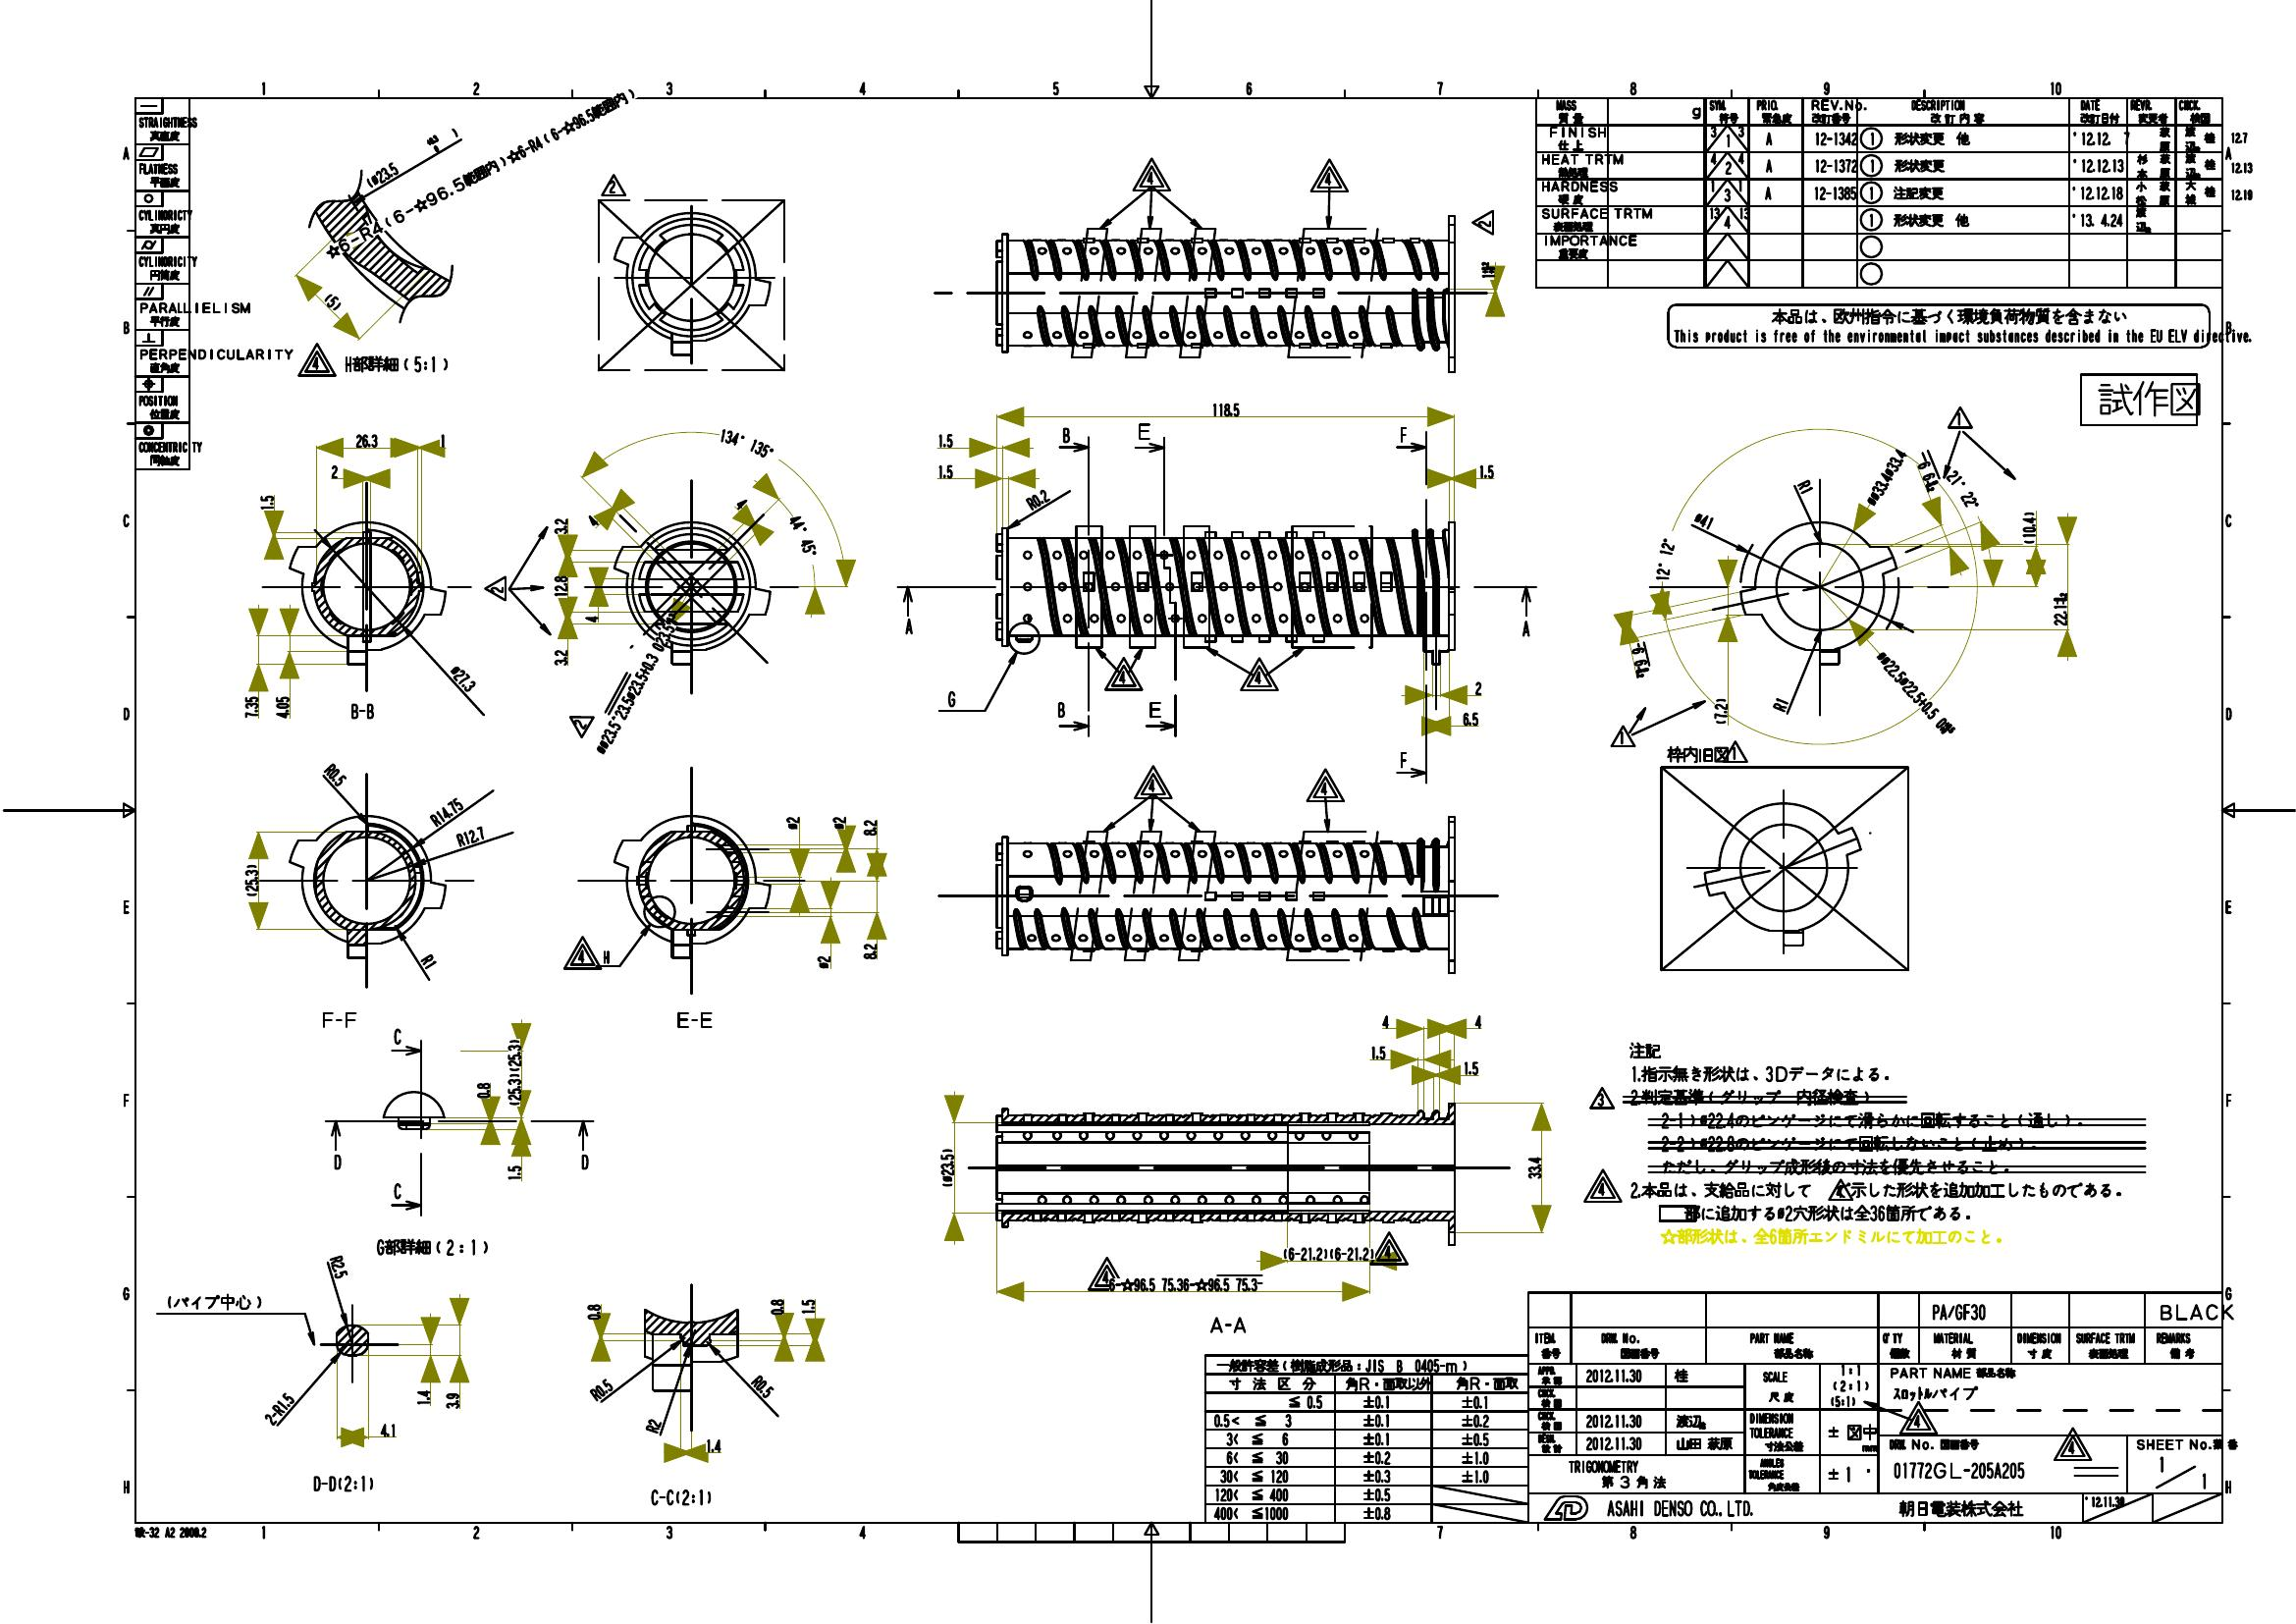anntotation_text: (1583, 1037, 2152, 1251), (1667, 304, 2210, 348), (2082, 374, 2199, 425), (372, 1234, 488, 1258), (339, 353, 450, 374), (1667, 740, 1750, 763), (557, 935, 603, 972), (311, 1471, 379, 1496), (1303, 766, 1346, 805), (1130, 156, 1173, 193), (1309, 156, 1349, 195), (1131, 763, 1172, 801), (1237, 656, 1279, 692), (163, 1294, 262, 1309), (297, 343, 336, 378), (1105, 657, 1142, 692), (646, 1487, 713, 1506), (1087, 1258, 1123, 1292), (1372, 1232, 1407, 1265), (132, 1524, 207, 1538), (673, 1007, 715, 1028), (1205, 1315, 1251, 1334), (597, 170, 627, 199), (1469, 207, 1497, 236), (1945, 404, 1975, 431), (320, 1009, 360, 1028), (1609, 722, 1635, 750), (346, 698, 379, 719), (481, 573, 508, 599), (569, 710, 594, 738), (388, 1179, 406, 1202), (1137, 420, 1154, 441), (1147, 698, 1165, 719), (1518, 615, 1534, 638), (388, 1026, 404, 1049), (899, 615, 917, 634), (1395, 749, 1412, 768), (327, 1149, 344, 1169), (574, 1153, 594, 1171), (1059, 422, 1073, 445), (1397, 420, 1409, 443), (1054, 698, 1066, 719), (945, 689, 959, 707), (603, 949, 611, 965)
dimension_text: (307, 165, 655, 181), (559, 675, 717, 691), (1108, 1278, 1263, 1292), (1859, 685, 1973, 701), (357, 149, 466, 165), (504, 1035, 523, 1107), (1282, 1246, 1374, 1260), (1876, 443, 1894, 508), (717, 434, 776, 452), (1641, 550, 1688, 571), (1952, 468, 1971, 513), (796, 510, 812, 557), (1917, 453, 1936, 490), (422, 805, 469, 819), (2052, 587, 2068, 627), (938, 1146, 954, 1186), (1623, 650, 1658, 668), (1209, 399, 1242, 417), (260, 1401, 297, 1417), (242, 863, 258, 898), (241, 692, 260, 719), (448, 670, 480, 685), (351, 431, 379, 448), (1022, 490, 1051, 508), (2022, 510, 2036, 545), (327, 759, 344, 787), (321, 290, 344, 311), (457, 826, 487, 842), (1713, 696, 1729, 724), (813, 951, 834, 972), (936, 429, 957, 448), (274, 696, 292, 719), (443, 1388, 460, 1411), (329, 1255, 346, 1278), (552, 575, 569, 596), (1460, 708, 1481, 726), (1693, 511, 1715, 529), (588, 1381, 613, 1396), (750, 1378, 775, 1392), (1479, 260, 1497, 279), (258, 492, 276, 511), (936, 462, 956, 480), (1477, 460, 1495, 480), (863, 942, 880, 961), (585, 1301, 601, 1322), (474, 1081, 492, 1098), (553, 647, 569, 666), (1795, 478, 1815, 494), (504, 1162, 520, 1181), (782, 816, 798, 835), (864, 816, 880, 835), (799, 1295, 815, 1315), (1368, 1042, 1388, 1058), (553, 517, 569, 534), (1773, 692, 1788, 710), (1463, 1058, 1481, 1074), (769, 1295, 783, 1315), (831, 810, 845, 828), (378, 1422, 395, 1436), (416, 1388, 429, 1408), (706, 1438, 722, 1452), (1472, 678, 1484, 696), (329, 464, 343, 478), (646, 1418, 661, 1432), (1472, 1011, 1483, 1028), (437, 434, 448, 448), (1381, 1014, 1391, 1028), (588, 513, 597, 529), (736, 496, 745, 510), (583, 615, 599, 622)
object: (994, 816, 1455, 974), (996, 214, 1455, 373), (993, 1102, 1456, 1246), (996, 520, 1455, 664), (288, 814, 446, 960), (1739, 522, 1899, 664), (613, 520, 769, 664), (613, 213, 771, 355), (288, 522, 446, 664), (613, 816, 771, 958), (307, 169, 453, 322), (1704, 803, 1860, 946), (643, 1308, 738, 1392), (383, 1090, 444, 1128), (336, 1325, 369, 1355)
title_block: (1205, 1290, 2222, 1524), (1537, 97, 2220, 290), (135, 95, 190, 468)
